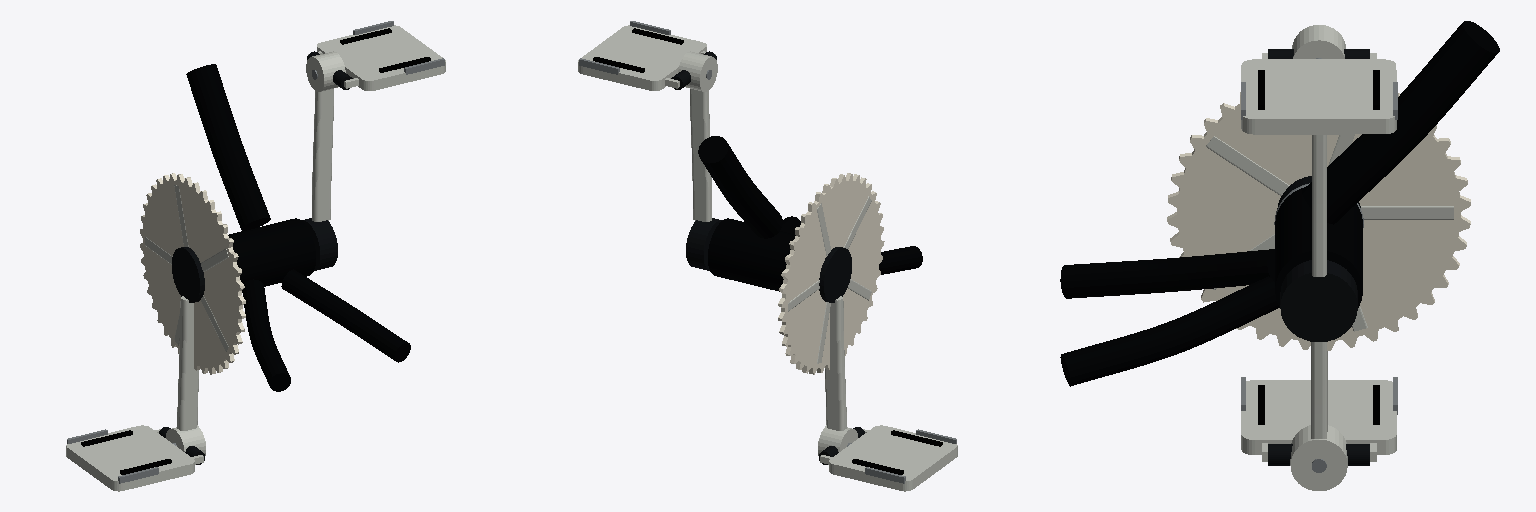
URDF robot description (folding_bike_crankset):
<robot name="folding_bike_crankset">
  <material name="satin_alloy">
    <color rgba="0.76 0.77 0.74 1" />
    </material>
  <material name="brushed_aluminum">
    <color rgba="0.88 0.86 0.8 1" />
    </material>
  <material name="dark_anodized">
    <color rgba="0.08 0.09 0.1 1" />
    </material>
  <material name="black_rubber">
    <color rgba="0.015 0.015 0.014 1" />
    </material>
  <material name="bearing_steel">
    <color rgba="0.5 0.52 0.53 1" />
    </material>
  <material name="frame_black">
    <color rgba="0.03 0.035 0.04 1" />
    </material>
  <link name="bottom_bracket">
    <visual name="shell_tube">
      <geometry>
        <mesh filename="assets/meshes/hollow_bottom_bracket_shell.obj" />
        </geometry>
      <material name="frame_black">
        <color rgba="0.03 0.035 0.04 1" />
        </material>
      </visual>
    <visual name="drive_bearing_cup">
      <origin xyz="-0.0475 0 0" rpy="0 0 0" />
      <geometry>
        <mesh filename="assets/meshes/drive_bearing_cup.obj" />
        </geometry>
      <material name="bearing_steel">
        <color rgba="0.5 0.52 0.53 1" />
        </material>
      </visual>
    <visual name="opposite_bearing_cup">
      <origin xyz="0.0475 0 0" rpy="0 0 0" />
      <geometry>
        <mesh filename="assets/meshes/opposite_bearing_cup.obj" />
        </geometry>
      <material name="bearing_steel">
        <color rgba="0.5 0.52 0.53 1" />
        </material>
      </visual>
    <visual name="down_tube_stub">
      <geometry>
        <mesh filename="assets/meshes/down_tube_stub.obj" />
        </geometry>
      <material name="frame_black">
        <color rgba="0.03 0.035 0.04 1" />
        </material>
      </visual>
    <visual name="chain_stay_0">
      <geometry>
        <mesh filename="assets/meshes/chain_stay_stub_0.obj" />
        </geometry>
      <material name="frame_black">
        <color rgba="0.03 0.035 0.04 1" />
        </material>
      </visual>
    <visual name="chain_stay_1">
      <geometry>
        <mesh filename="assets/meshes/chain_stay_stub_1.obj" />
        </geometry>
      <material name="frame_black">
        <color rgba="0.03 0.035 0.04 1" />
        </material>
      </visual>
    <collision name="shell_tube">
      <geometry>
        <mesh filename="assets/meshes/hollow_bottom_bracket_shell.obj" />
        </geometry>
      </collision>
    <collision name="drive_bearing_cup">
      <origin xyz="-0.0475 0 0" rpy="0 0 0" />
      <geometry>
        <mesh filename="assets/meshes/drive_bearing_cup.obj" />
        </geometry>
      </collision>
    <collision name="opposite_bearing_cup">
      <origin xyz="0.0475 0 0" rpy="0 0 0" />
      <geometry>
        <mesh filename="assets/meshes/opposite_bearing_cup.obj" />
        </geometry>
      </collision>
    <collision name="down_tube_stub">
      <geometry>
        <mesh filename="assets/meshes/down_tube_stub.obj" />
        </geometry>
      </collision>
    <collision name="chain_stay_0">
      <geometry>
        <mesh filename="assets/meshes/chain_stay_stub_0.obj" />
        </geometry>
      </collision>
    <collision name="chain_stay_1">
      <geometry>
        <mesh filename="assets/meshes/chain_stay_stub_1.obj" />
        </geometry>
      </collision>
    </link>
  <link name="crank">
    <visual name="bottom_bracket_spindle">
      <origin xyz="0 0 0" rpy="0 1.5708 0" />
      <geometry>
        <cylinder radius="0.0125" length="0.128" />
        </geometry>
      <material name="bearing_steel">
        <color rgba="0.5 0.52 0.53 1" />
        </material>
      </visual>
    <visual name="drive_crank_boss">
      <origin xyz="-0.061 0 0" rpy="0 1.5708 0" />
      <geometry>
        <cylinder radius="0.025" length="0.02" />
        </geometry>
      <material name="dark_anodized">
        <color rgba="0.08 0.09 0.1 1" />
        </material>
      </visual>
    <visual name="opposite_crank_boss">
      <origin xyz="0.061 0 0" rpy="0 1.5708 0" />
      <geometry>
        <cylinder radius="0.023" length="0.018" />
        </geometry>
      <material name="dark_anodized">
        <color rgba="0.08 0.09 0.1 1" />
        </material>
      </visual>
    <visual name="drive_arm">
      <geometry>
        <mesh filename="assets/meshes/compact_drive_crank_arm.obj" />
        </geometry>
      <material name="satin_alloy">
        <color rgba="0.76 0.77 0.74 1" />
        </material>
      </visual>
    <visual name="opposite_arm">
      <geometry>
        <mesh filename="assets/meshes/compact_opposite_crank_arm.obj" />
        </geometry>
      <material name="satin_alloy">
        <color rgba="0.76 0.77 0.74 1" />
        </material>
      </visual>
    <visual name="drive_pedal_eye">
      <origin xyz="-0.071 0 -0.164" rpy="0 1.5708 0" />
      <geometry>
        <cylinder radius="0.017" length="0.022" />
        </geometry>
      <material name="satin_alloy">
        <color rgba="0.76 0.77 0.74 1" />
        </material>
      </visual>
    <visual name="opposite_pedal_eye">
      <origin xyz="0.071 0 0.164" rpy="0 1.5708 0" />
      <geometry>
        <cylinder radius="0.016" length="0.022" />
        </geometry>
      <material name="satin_alloy">
        <color rgba="0.76 0.77 0.74 1" />
        </material>
      </visual>
    <visual name="chainring">
      <origin xyz="-0.064 0 0" rpy="0 0 0" />
      <geometry>
        <mesh filename="assets/meshes/compact_chainring_teeth.obj" />
        </geometry>
      <material name="brushed_aluminum">
        <color rgba="0.88 0.86 0.8 1" />
        </material>
      </visual>
    <visual name="spider_0">
      <geometry>
        <mesh filename="assets/meshes/chainring_spider_0.obj" />
        </geometry>
      <material name="satin_alloy">
        <color rgba="0.76 0.77 0.74 1" />
        </material>
      </visual>
    <visual name="spider_1">
      <geometry>
        <mesh filename="assets/meshes/chainring_spider_1.obj" />
        </geometry>
      <material name="satin_alloy">
        <color rgba="0.76 0.77 0.74 1" />
        </material>
      </visual>
    <visual name="spider_2">
      <geometry>
        <mesh filename="assets/meshes/chainring_spider_2.obj" />
        </geometry>
      <material name="satin_alloy">
        <color rgba="0.76 0.77 0.74 1" />
        </material>
      </visual>
    <visual name="spider_3">
      <geometry>
        <mesh filename="assets/meshes/chainring_spider_3.obj" />
        </geometry>
      <material name="satin_alloy">
        <color rgba="0.76 0.77 0.74 1" />
        </material>
      </visual>
    <visual name="spider_4">
      <geometry>
        <mesh filename="assets/meshes/chainring_spider_4.obj" />
        </geometry>
      <material name="satin_alloy">
        <color rgba="0.76 0.77 0.74 1" />
        </material>
      </visual>
    <collision name="bottom_bracket_spindle">
      <origin xyz="0 0 0" rpy="0 1.5708 0" />
      <geometry>
        <cylinder radius="0.0125" length="0.128" />
        </geometry>
      </collision>
    <collision name="drive_crank_boss">
      <origin xyz="-0.061 0 0" rpy="0 1.5708 0" />
      <geometry>
        <cylinder radius="0.025" length="0.02" />
        </geometry>
      </collision>
    <collision name="opposite_crank_boss">
      <origin xyz="0.061 0 0" rpy="0 1.5708 0" />
      <geometry>
        <cylinder radius="0.023" length="0.018" />
        </geometry>
      </collision>
    <collision name="drive_arm">
      <geometry>
        <mesh filename="assets/meshes/compact_drive_crank_arm.obj" />
        </geometry>
      </collision>
    <collision name="opposite_arm">
      <geometry>
        <mesh filename="assets/meshes/compact_opposite_crank_arm.obj" />
        </geometry>
      </collision>
    <collision name="drive_pedal_eye">
      <origin xyz="-0.071 0 -0.164" rpy="0 1.5708 0" />
      <geometry>
        <cylinder radius="0.017" length="0.022" />
        </geometry>
      </collision>
    <collision name="opposite_pedal_eye">
      <origin xyz="0.071 0 0.164" rpy="0 1.5708 0" />
      <geometry>
        <cylinder radius="0.016" length="0.022" />
        </geometry>
      </collision>
    <collision name="chainring">
      <origin xyz="-0.064 0 0" rpy="0 0 0" />
      <geometry>
        <mesh filename="assets/meshes/compact_chainring_teeth.obj" />
        </geometry>
      </collision>
    <collision name="spider_0">
      <geometry>
        <mesh filename="assets/meshes/chainring_spider_0.obj" />
        </geometry>
      </collision>
    <collision name="spider_1">
      <geometry>
        <mesh filename="assets/meshes/chainring_spider_1.obj" />
        </geometry>
      </collision>
    <collision name="spider_2">
      <geometry>
        <mesh filename="assets/meshes/chainring_spider_2.obj" />
        </geometry>
      </collision>
    <collision name="spider_3">
      <geometry>
        <mesh filename="assets/meshes/chainring_spider_3.obj" />
        </geometry>
      </collision>
    <collision name="spider_4">
      <geometry>
        <mesh filename="assets/meshes/chainring_spider_4.obj" />
        </geometry>
      </collision>
    </link>
  <link name="drive_pedal">
    <visual name="pedal_frame">
      <geometry>
        <mesh filename="assets/meshes/drive_pedal_alloy_frame.obj" />
        </geometry>
      <material name="satin_alloy">
        <color rgba="0.76 0.77 0.74 1" />
        </material>
      </visual>
    <visual name="fold_hinge_barrel">
      <origin xyz="-0.004 0 0" rpy="1.5708 0 0" />
      <geometry>
        <cylinder radius="0.0065" length="0.06" />
        </geometry>
      <material name="dark_anodized">
        <color rgba="0.08 0.09 0.1 1" />
        </material>
      </visual>
    <visual name="spindle_pin">
      <origin xyz="-0.003 0 0" rpy="0 1.5708 0" />
      <geometry>
        <cylinder radius="0.0045" length="0.03" />
        </geometry>
      <material name="bearing_steel">
        <color rgba="0.5 0.52 0.53 1" />
        </material>
      </visual>
    <visual name="hinge_clevis_0">
      <origin xyz="-0.014 -0.032 0" rpy="0 0 0" />
      <geometry>
        <box size="0.026 0.004 0.006" />
        </geometry>
      <material name="satin_alloy">
        <color rgba="0.76 0.77 0.74 1" />
        </material>
      </visual>
    <visual name="hinge_clevis_1">
      <origin xyz="-0.014 0.032 0" rpy="0 0 0" />
      <geometry>
        <box size="0.026 0.004 0.006" />
        </geometry>
      <material name="satin_alloy">
        <color rgba="0.76 0.77 0.74 1" />
        </material>
      </visual>
    <visual name="rubber_grip_0">
      <origin xyz="-0.06 -0.034 0.0065" rpy="0 0 0" />
      <geometry>
        <box size="0.05 0.004 0.003" />
        </geometry>
      <material name="black_rubber">
        <color rgba="0.015 0.015 0.014 1" />
        </material>
      </visual>
    <visual name="rubber_grip_1">
      <origin xyz="-0.06 0.034 0.0065" rpy="0 0 0" />
      <geometry>
        <box size="0.05 0.004 0.003" />
        </geometry>
      <material name="black_rubber">
        <color rgba="0.015 0.015 0.014 1" />
        </material>
      </visual>
    <visual name="edge_teeth_0">
      <origin xyz="-0.074 -0.045 0.006" rpy="0 0 0" />
      <geometry>
        <box size="0.04 0.003 0.006" />
        </geometry>
      <material name="bearing_steel">
        <color rgba="0.5 0.52 0.53 1" />
        </material>
      </visual>
    <visual name="edge_teeth_1">
      <origin xyz="-0.074 0.045 0.006" rpy="0 0 0" />
      <geometry>
        <box size="0.04 0.003 0.006" />
        </geometry>
      <material name="bearing_steel">
        <color rgba="0.5 0.52 0.53 1" />
        </material>
      </visual>
    <collision name="pedal_frame">
      <geometry>
        <mesh filename="assets/meshes/drive_pedal_alloy_frame.obj" />
        </geometry>
      </collision>
    <collision name="fold_hinge_barrel">
      <origin xyz="-0.004 0 0" rpy="1.5708 0 0" />
      <geometry>
        <cylinder radius="0.0065" length="0.06" />
        </geometry>
      </collision>
    <collision name="spindle_pin">
      <origin xyz="-0.003 0 0" rpy="0 1.5708 0" />
      <geometry>
        <cylinder radius="0.0045" length="0.03" />
        </geometry>
      </collision>
    <collision name="hinge_clevis_0">
      <origin xyz="-0.014 -0.032 0" rpy="0 0 0" />
      <geometry>
        <box size="0.026 0.004 0.006" />
        </geometry>
      </collision>
    <collision name="hinge_clevis_1">
      <origin xyz="-0.014 0.032 0" rpy="0 0 0" />
      <geometry>
        <box size="0.026 0.004 0.006" />
        </geometry>
      </collision>
    <collision name="rubber_grip_0">
      <origin xyz="-0.06 -0.034 0.0065" rpy="0 0 0" />
      <geometry>
        <box size="0.05 0.004 0.003" />
        </geometry>
      </collision>
    <collision name="rubber_grip_1">
      <origin xyz="-0.06 0.034 0.0065" rpy="0 0 0" />
      <geometry>
        <box size="0.05 0.004 0.003" />
        </geometry>
      </collision>
    <collision name="edge_teeth_0">
      <origin xyz="-0.074 -0.045 0.006" rpy="0 0 0" />
      <geometry>
        <box size="0.04 0.003 0.006" />
        </geometry>
      </collision>
    <collision name="edge_teeth_1">
      <origin xyz="-0.074 0.045 0.006" rpy="0 0 0" />
      <geometry>
        <box size="0.04 0.003 0.006" />
        </geometry>
      </collision>
    </link>
  <link name="opposite_pedal">
    <visual name="pedal_frame">
      <geometry>
        <mesh filename="assets/meshes/opposite_pedal_alloy_frame.obj" />
        </geometry>
      <material name="satin_alloy">
        <color rgba="0.76 0.77 0.74 1" />
        </material>
      </visual>
    <visual name="fold_hinge_barrel">
      <origin xyz="0.004 0 0" rpy="1.5708 0 0" />
      <geometry>
        <cylinder radius="0.0065" length="0.06" />
        </geometry>
      <material name="dark_anodized">
        <color rgba="0.08 0.09 0.1 1" />
        </material>
      </visual>
    <visual name="spindle_pin">
      <origin xyz="0.003 0 0" rpy="0 1.5708 0" />
      <geometry>
        <cylinder radius="0.0045" length="0.03" />
        </geometry>
      <material name="bearing_steel">
        <color rgba="0.5 0.52 0.53 1" />
        </material>
      </visual>
    <visual name="hinge_clevis_0">
      <origin xyz="0.014 -0.032 0" rpy="0 0 0" />
      <geometry>
        <box size="0.026 0.004 0.006" />
        </geometry>
      <material name="satin_alloy">
        <color rgba="0.76 0.77 0.74 1" />
        </material>
      </visual>
    <visual name="hinge_clevis_1">
      <origin xyz="0.014 0.032 0" rpy="0 0 0" />
      <geometry>
        <box size="0.026 0.004 0.006" />
        </geometry>
      <material name="satin_alloy">
        <color rgba="0.76 0.77 0.74 1" />
        </material>
      </visual>
    <visual name="rubber_grip_0">
      <origin xyz="0.06 -0.034 0.0065" rpy="0 0 0" />
      <geometry>
        <box size="0.05 0.004 0.003" />
        </geometry>
      <material name="black_rubber">
        <color rgba="0.015 0.015 0.014 1" />
        </material>
      </visual>
    <visual name="rubber_grip_1">
      <origin xyz="0.06 0.034 0.0065" rpy="0 0 0" />
      <geometry>
        <box size="0.05 0.004 0.003" />
        </geometry>
      <material name="black_rubber">
        <color rgba="0.015 0.015 0.014 1" />
        </material>
      </visual>
    <visual name="edge_teeth_0">
      <origin xyz="0.074 -0.045 0.006" rpy="0 0 0" />
      <geometry>
        <box size="0.04 0.003 0.006" />
        </geometry>
      <material name="bearing_steel">
        <color rgba="0.5 0.52 0.53 1" />
        </material>
      </visual>
    <visual name="edge_teeth_1">
      <origin xyz="0.074 0.045 0.006" rpy="0 0 0" />
      <geometry>
        <box size="0.04 0.003 0.006" />
        </geometry>
      <material name="bearing_steel">
        <color rgba="0.5 0.52 0.53 1" />
        </material>
      </visual>
    <collision name="pedal_frame">
      <geometry>
        <mesh filename="assets/meshes/opposite_pedal_alloy_frame.obj" />
        </geometry>
      </collision>
    <collision name="fold_hinge_barrel">
      <origin xyz="0.004 0 0" rpy="1.5708 0 0" />
      <geometry>
        <cylinder radius="0.0065" length="0.06" />
        </geometry>
      </collision>
    <collision name="spindle_pin">
      <origin xyz="0.003 0 0" rpy="0 1.5708 0" />
      <geometry>
        <cylinder radius="0.0045" length="0.03" />
        </geometry>
      </collision>
    <collision name="hinge_clevis_0">
      <origin xyz="0.014 -0.032 0" rpy="0 0 0" />
      <geometry>
        <box size="0.026 0.004 0.006" />
        </geometry>
      </collision>
    <collision name="hinge_clevis_1">
      <origin xyz="0.014 0.032 0" rpy="0 0 0" />
      <geometry>
        <box size="0.026 0.004 0.006" />
        </geometry>
      </collision>
    <collision name="rubber_grip_0">
      <origin xyz="0.06 -0.034 0.0065" rpy="0 0 0" />
      <geometry>
        <box size="0.05 0.004 0.003" />
        </geometry>
      </collision>
    <collision name="rubber_grip_1">
      <origin xyz="0.06 0.034 0.0065" rpy="0 0 0" />
      <geometry>
        <box size="0.05 0.004 0.003" />
        </geometry>
      </collision>
    <collision name="edge_teeth_0">
      <origin xyz="0.074 -0.045 0.006" rpy="0 0 0" />
      <geometry>
        <box size="0.04 0.003 0.006" />
        </geometry>
      </collision>
    <collision name="edge_teeth_1">
      <origin xyz="0.074 0.045 0.006" rpy="0 0 0" />
      <geometry>
        <box size="0.04 0.003 0.006" />
        </geometry>
      </collision>
    </link>
  <joint name="bottom_bracket_spin" type="continuous">
    <parent link="bottom_bracket" />
    <child link="crank" />
    <axis xyz="1 0 0" />
    <limit effort="80" velocity="16" />
    </joint>
  <joint name="drive_pedal_fold" type="revolute">
    <origin xyz="-0.071 0 -0.164" rpy="0 0 0" />
    <parent link="crank" />
    <child link="drive_pedal" />
    <axis xyz="0 1 0" />
    <limit effort="8" velocity="3" lower="0" upper="1.57" />
    </joint>
  <joint name="opposite_pedal_fold" type="revolute">
    <origin xyz="0.071 0 0.164" rpy="0 0 0" />
    <parent link="crank" />
    <child link="opposite_pedal" />
    <axis xyz="0 1 0" />
    <limit effort="8" velocity="3" lower="0" upper="1.57" />
    </joint>
  </robot>

--- What the picture shows (computed from the rendered views, not written in the file) ---
Views: 3 orthographic renders of the robot side by side, from view 1: azimuth 30°, elevation 25°; view 2: azimuth 150°, elevation 25°; view 3: azimuth 270°, elevation 25°.
Robot: folding_bike_crankset — 4 links, 3 joints (2 revolute, 1 continuous); root link bottom_bracket; default pose: all joints at 0.
Visible links, largest first — view 1: crank, bottom_bracket, drive_pedal, opposite_pedal; view 2: crank, bottom_bracket, drive_pedal, opposite_pedal; view 3: crank, bottom_bracket, opposite_pedal, drive_pedal.
Boxes of the visible links, left/top/right/bottom form: crank: left=140, top=51, right=345, bottom=455; bottom_bracket: left=186, top=64, right=410, bottom=391; drive_pedal: left=66, top=425, right=204, bottom=491; opposite_pedal: left=307, top=21, right=445, bottom=90; crank: left=678, top=51, right=884, bottom=455; bottom_bracket: left=698, top=136, right=922, bottom=291; drive_pedal: left=819, top=425, right=957, bottom=491; opposite_pedal: left=578, top=21, right=716, bottom=90; crank: left=1167, top=25, right=1470, bottom=490; bottom_bracket: left=1060, top=21, right=1499, bottom=386; opposite_pedal: left=1241, top=49, right=1397, bottom=134; drive_pedal: left=1241, top=377, right=1397, bottom=472.
Bounding box of the posed robot: 0.338 × 0.26 × 0.361 m (x, y, z).
Meshes: 16 distinct files referenced, 15 mesh visuals loaded (15 OBJ); not drawn: 1 (reference not matched to a file when rendering).
